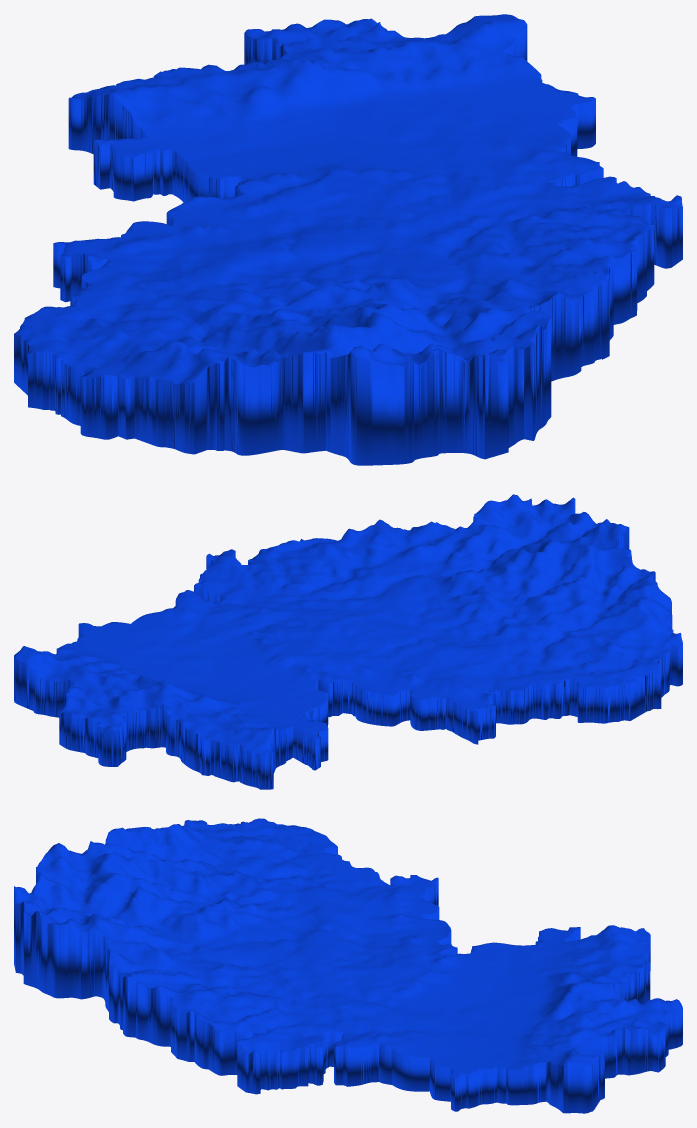
The model's file is santiago-3d.fbx.
3 views of the same model, one above another, from view 1: azimuth 30°, elevation 25°; view 2: azimuth 150°, elevation 25°; view 3: azimuth 270°, elevation 25° (orthographic). The views are drawn at different scales.
Parts seen in each view (by area): view 1: CORTE PROVINCIA; view 2: CORTE PROVINCIA; view 3: CORTE PROVINCIA.
Boxes of the visible parts, box(x1,y1,x2,y2) form: CORTE PROVINCIA: box(14, 14, 682, 465); CORTE PROVINCIA: box(14, 494, 682, 789); CORTE PROVINCIA: box(14, 818, 682, 1113).
Size of the model in its own units: 528 by 81.65 by 585.
